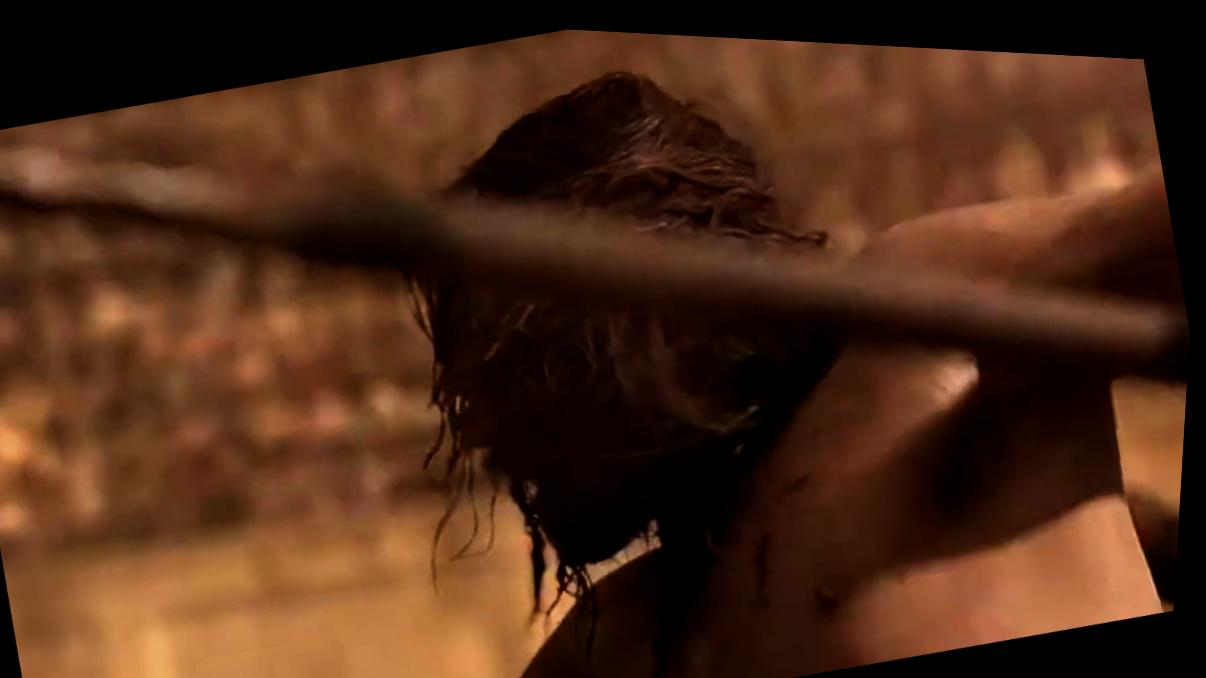Fire: (762, 522, 780, 599), (787, 464, 814, 484)
